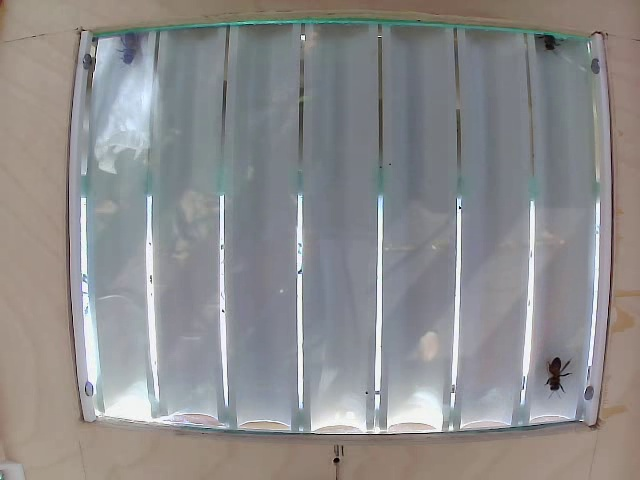bee: (537, 353, 573, 399)
